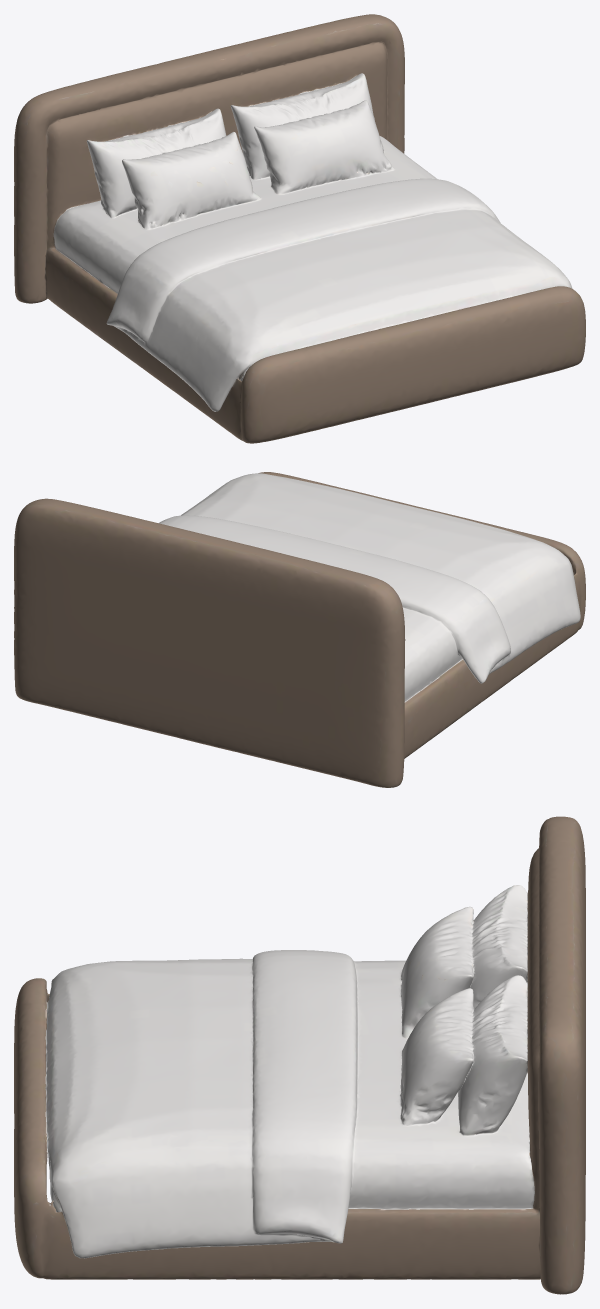
File: Modern Rounded Upholstered Platform Bed [sAizDS].glb
3 renders of one model, top to bottom at view 1: azimuth 30°, elevation 25°; view 2: azimuth 150°, elevation 25°; view 3: azimuth 270°, elevation 25°, orthographic. The views are drawn at different scales.
Visible parts, largest first — view 1: world; view 2: world; view 3: world.
Part boxes in pixels (bbox=[...]): world: bbox=[14, 14, 585, 443]; world: bbox=[14, 472, 585, 787]; world: bbox=[14, 816, 585, 1294].
Bounding box in the file's own units: 1 × 0.4983 × 1.
1 material, 1 textured.
